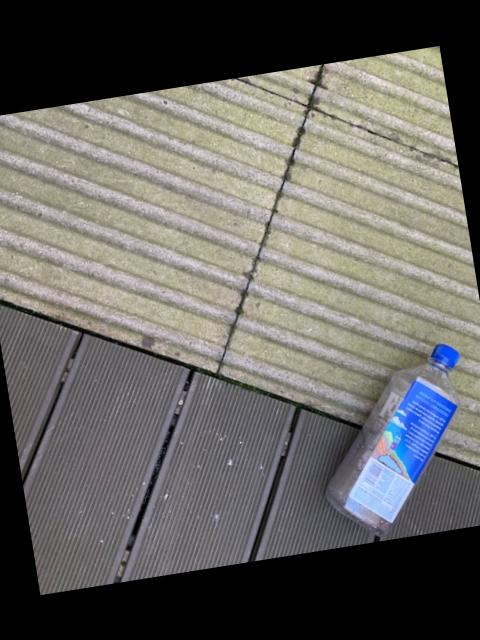plastic: (324, 343, 457, 533)
